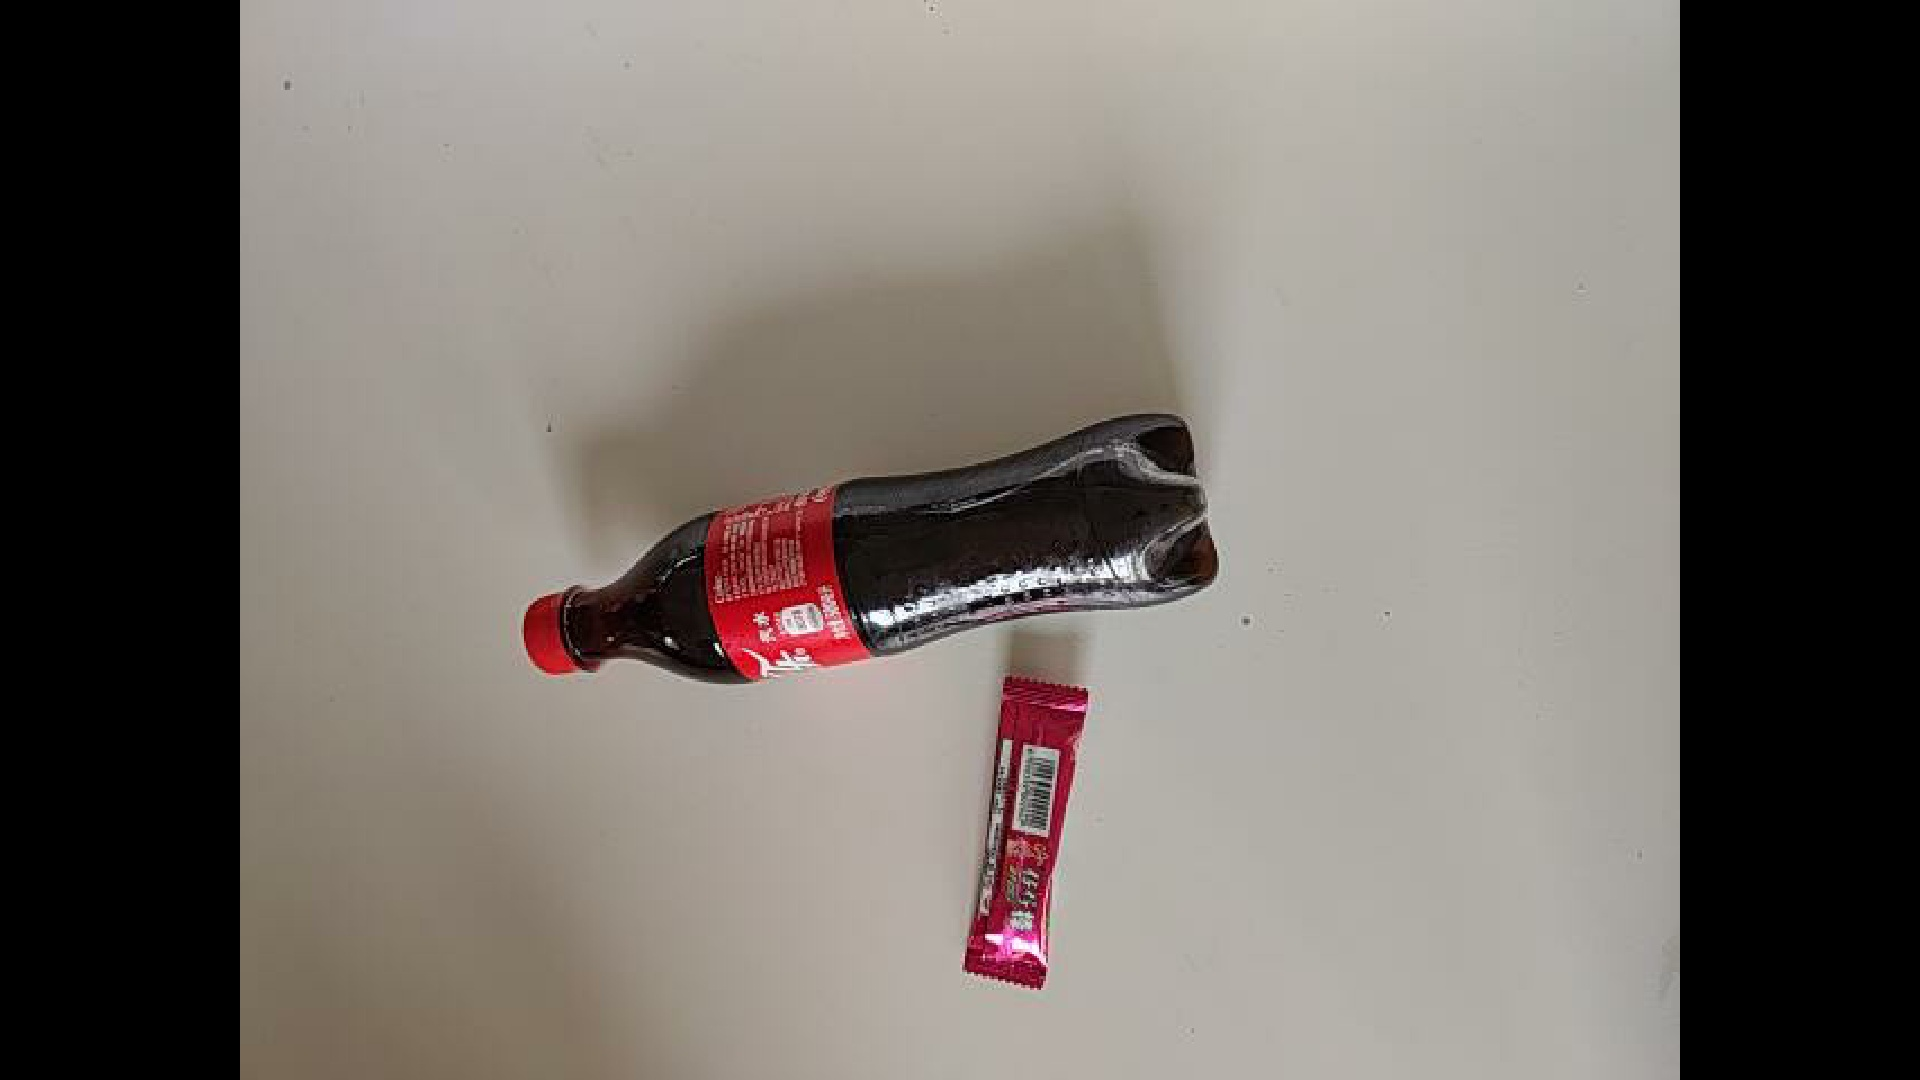cola: (502, 467, 1261, 744)
sugar: (918, 674, 1095, 984)
